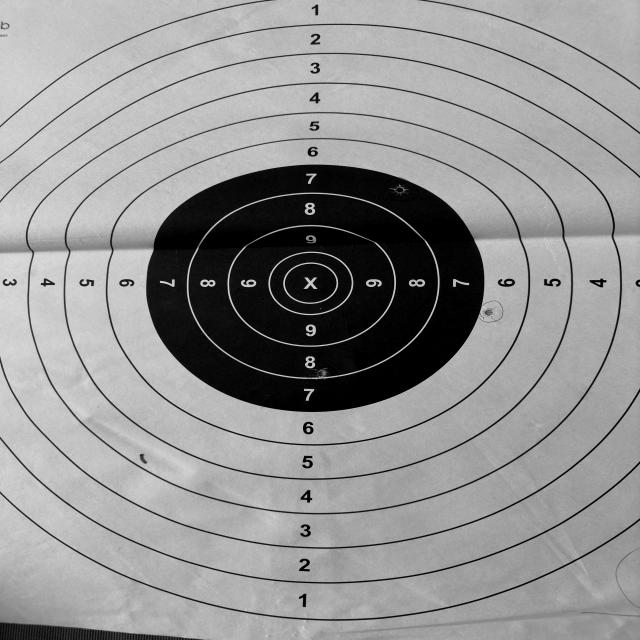bullet: (394, 184, 406, 195), (317, 368, 327, 378), (484, 309, 493, 316)
target: (0, 0, 640, 640)
